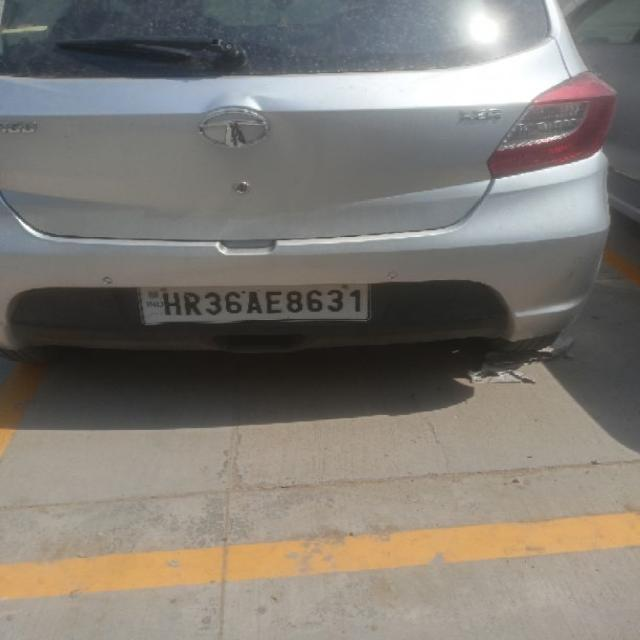license_plate: (135, 282, 371, 326)
